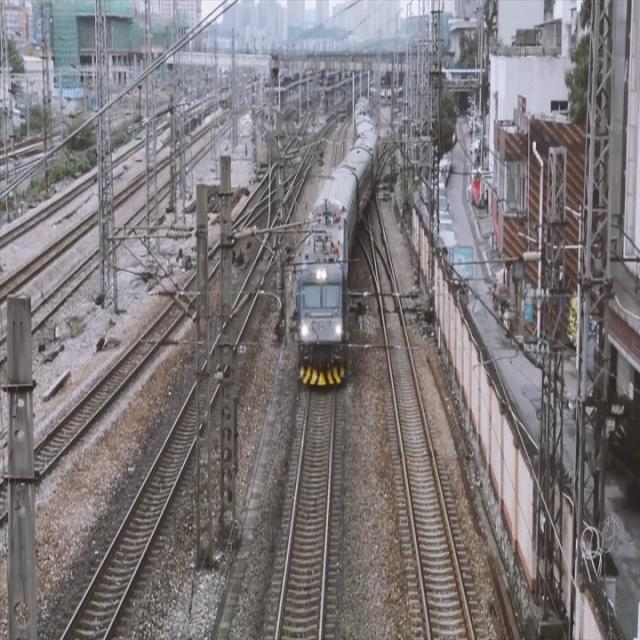locomotive: (291, 208, 350, 392)
